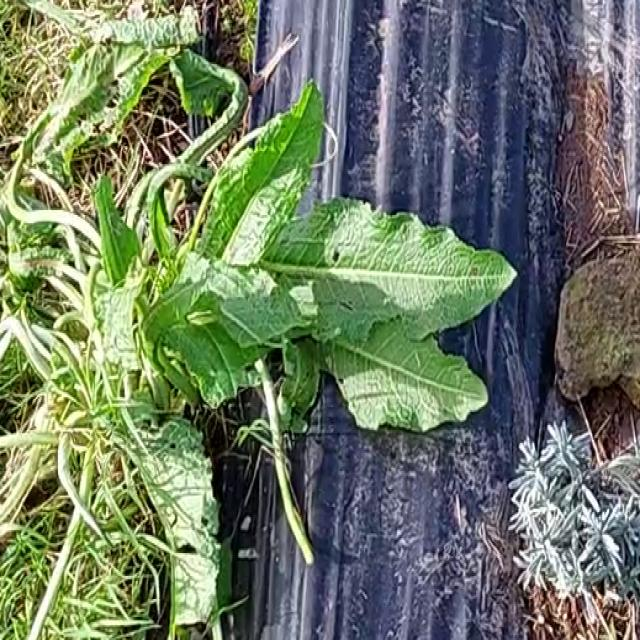organic waste: (17, 0, 575, 512)
